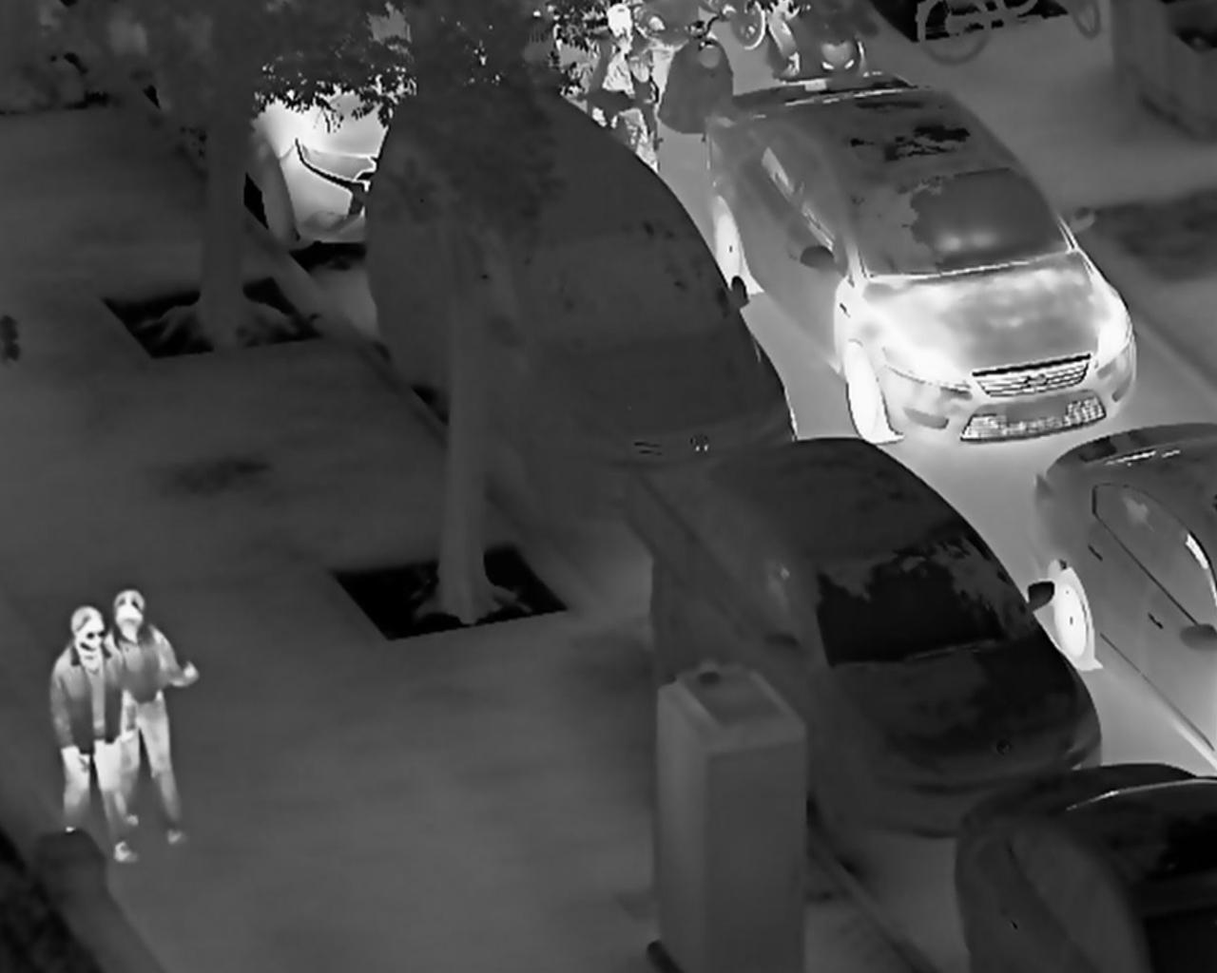person: (46, 602, 139, 869), (108, 584, 201, 848)
